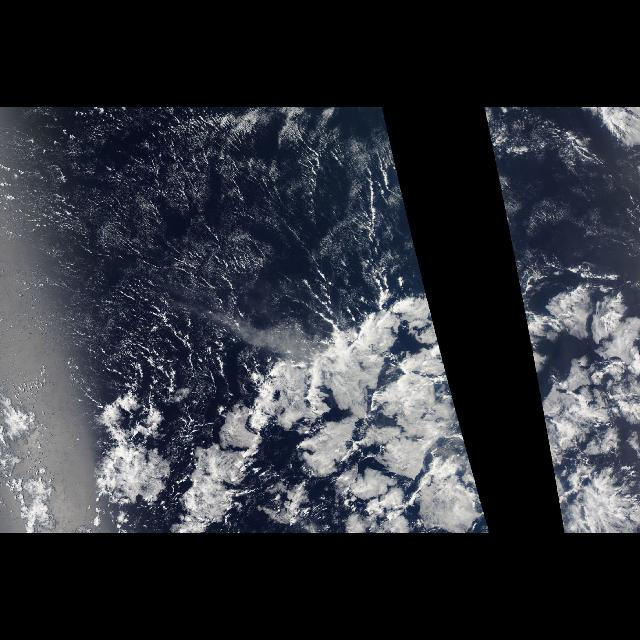Flower: (280, 359, 468, 529)
Sugar: (6, 109, 304, 324)
